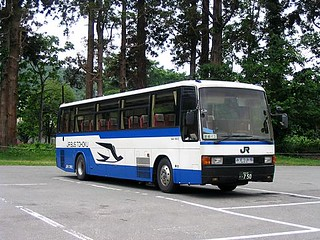bus: (54, 78, 287, 193)
